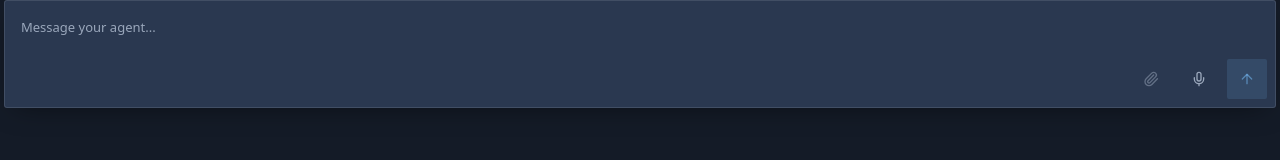
Composer › voice input › appends the recognized transcript into the composer
Type "note:" into the text box labelled "Message your agent" at [640, 31], box [13, 9, 1267, 53]
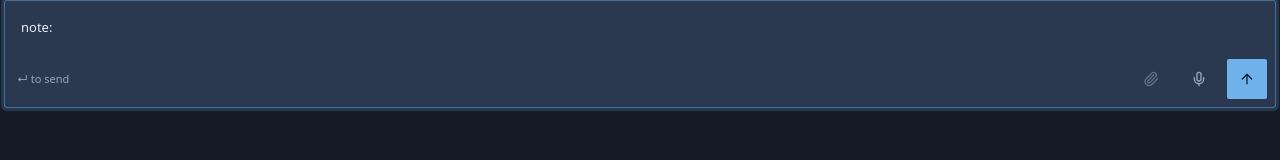
Click the button with test id "composer-mic" at [1199, 79], box [1179, 59, 1219, 99]
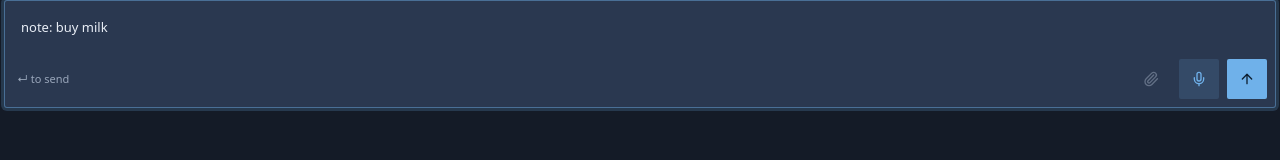
Expected: the text box named "Message your agent" holds "note: buy milk", [13, 9, 1267, 53]
